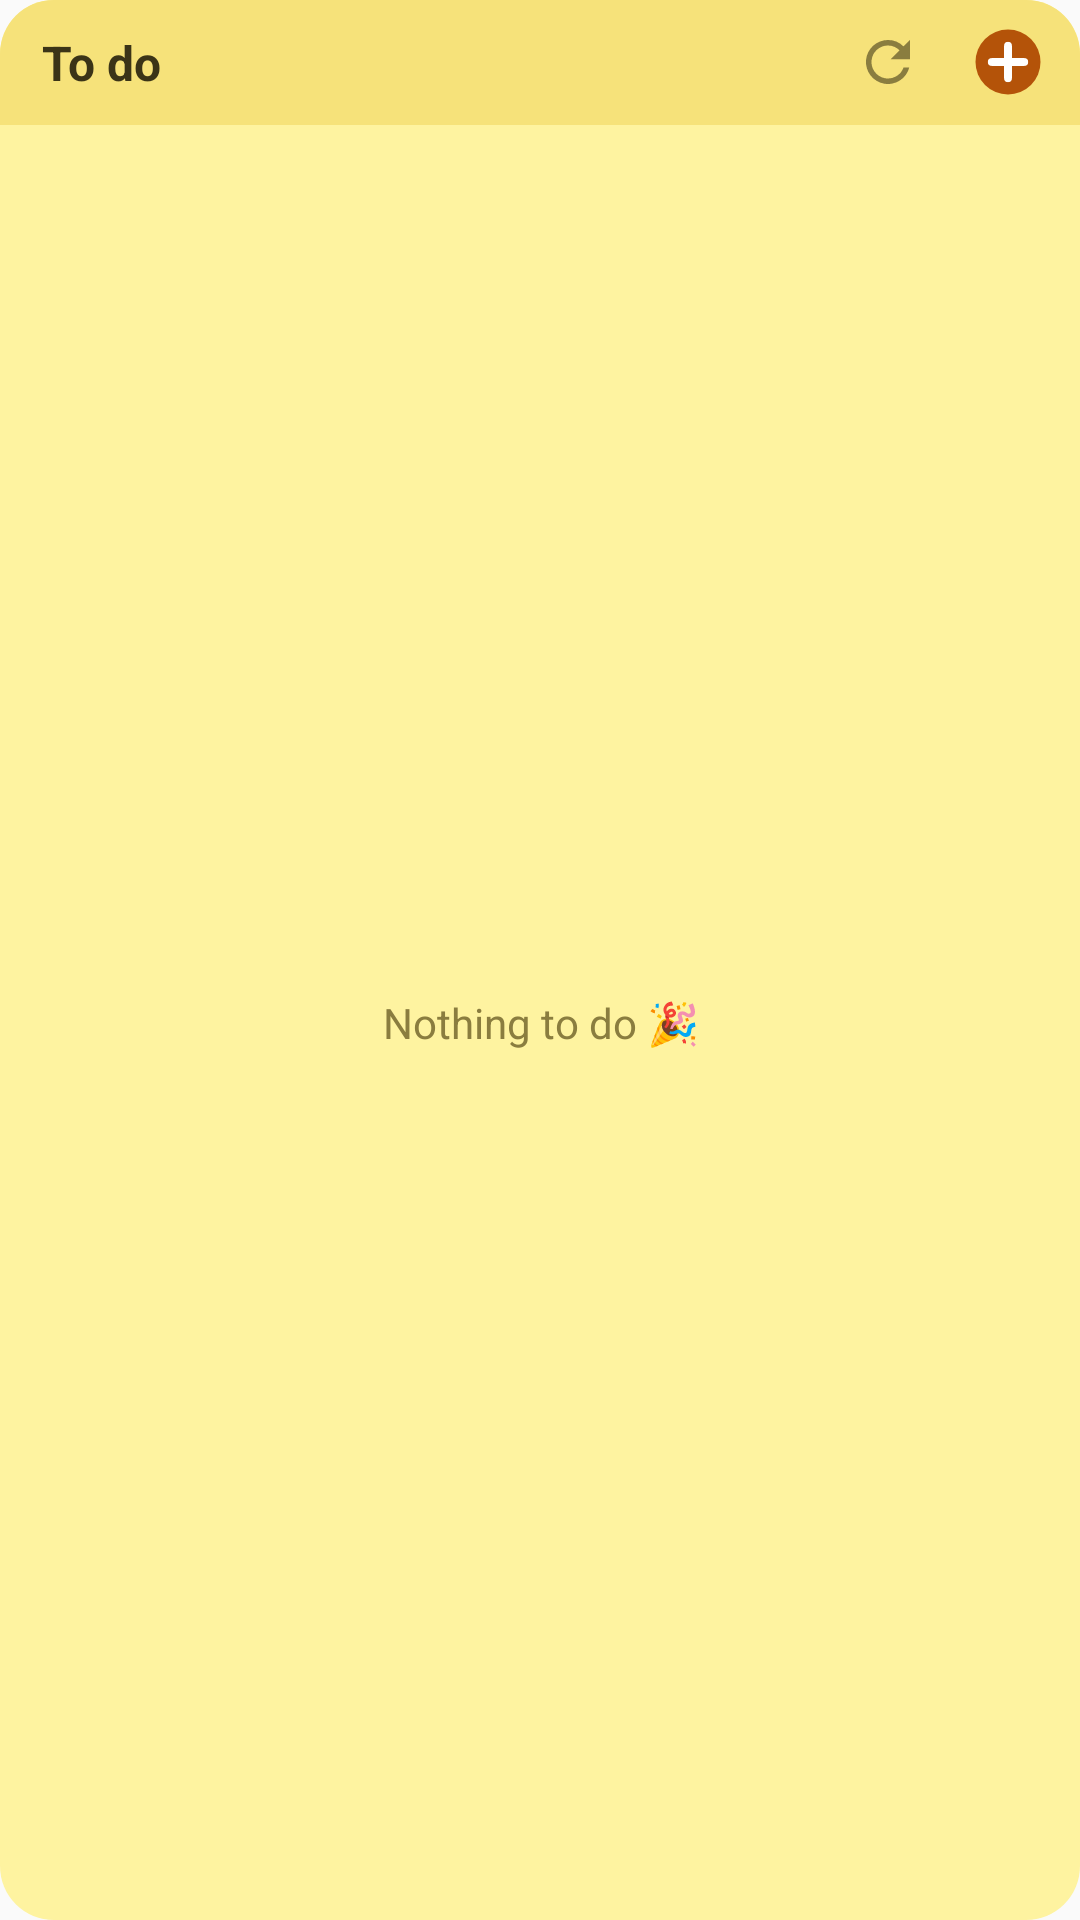

Icons on this 1080 × 1920 Android screen, each with its box as (x1, y1, x2, y2):
Add: (975, 29, 1041, 95)
Refresh: (866, 40, 910, 84)
